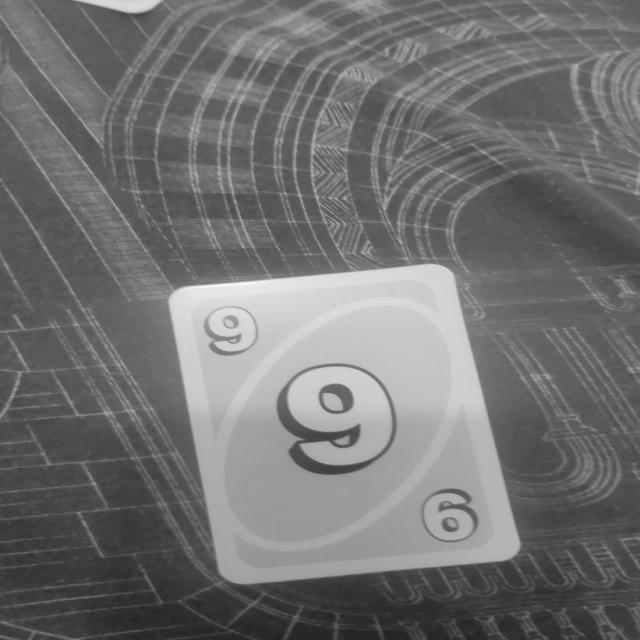card_9: (167, 262, 521, 584)
